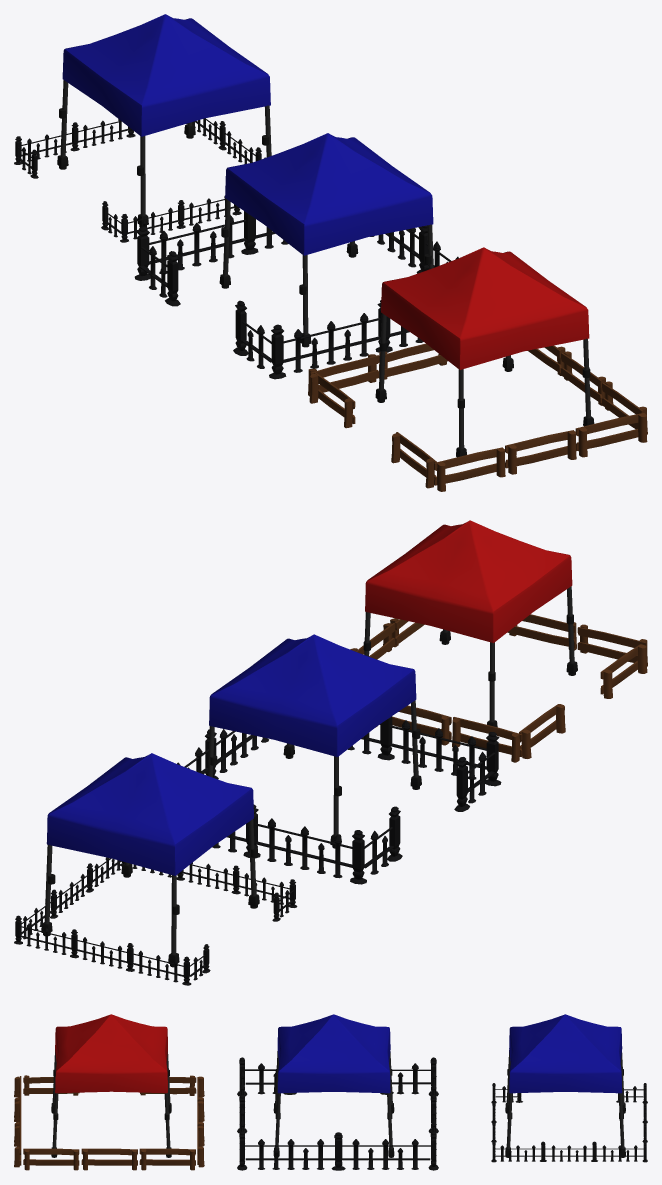
The model's file is workshop.fbx.
The picture shows the model from 3 angles, top to bottom: view 1: azimuth 30°, elevation 25°; view 2: azimuth 150°, elevation 25°; view 3: azimuth 270°, elevation 25°; orthographic projection. The views are drawn at different scales.
Visible parts, largest first — view 1: Box003, Box002, Box1276, Cylinder1429, Cylinder1434, Cylinder1439, Cylinder1438, Cylinder1454, Cylinder1444, Cylinder1436; view 2: Box002, Box1276, Box003, Cylinder1434, Cylinder1429, Cylinder1438, Cylinder1439, Cylinder1435, Cylinder1444, Cylinder1454, Cylinder1450, Cylinder1443; view 3: Box002, Box1276, Box003, Cylinder1435, Cylinder1436, Cylinder1445, Cylinder1451, Cylinder1439, Cylinder1434, Cylinder1429, Cylinder1446, Cylinder1438 (+8 smaller).
Boxes of the visible parts, x1=… form: Box003: x1=375, y1=247, x2=594, y2=457; Box002: x1=57, y1=14, x2=271, y2=227; Box1276: x1=219, y1=133, x2=433, y2=347; Cylinder1429: x1=269, y1=300, x2=392, y2=379; Cylinder1434: x1=134, y1=211, x2=258, y2=280; Cylinder1439: x1=139, y1=246, x2=180, y2=306; Cylinder1438: x1=233, y1=300, x2=271, y2=368; Cylinder1454: x1=120, y1=200, x2=185, y2=242; Cylinder1444: x1=14, y1=122, x2=79, y2=164; Cylinder1436: x1=370, y1=228, x2=418, y2=267; Box002: x1=41, y1=753, x2=259, y2=967; Box1276: x1=208, y1=634, x2=421, y2=848; Box003: x1=364, y1=520, x2=577, y2=727; Cylinder1434: x1=243, y1=804, x2=366, y2=884; Cylinder1429: x1=377, y1=716, x2=501, y2=786; Cylinder1438: x1=454, y1=751, x2=495, y2=811; Cylinder1439: x1=364, y1=806, x2=402, y2=874; Cylinder1435: x1=205, y1=729, x2=268, y2=779; Cylinder1444: x1=126, y1=943, x2=191, y2=985; Cylinder1454: x1=231, y1=865, x2=297, y2=907; Cylinder1450: x1=14, y1=915, x2=71, y2=954; Cylinder1443: x1=70, y1=929, x2=126, y2=968; Box002: x1=505, y1=1014, x2=625, y2=1157; Box1276: x1=273, y1=1014, x2=394, y2=1157; Box003: x1=51, y1=1014, x2=171, y2=1157; Cylinder1435: x1=245, y1=1132, x2=345, y2=1170; Cylinder1436: x1=342, y1=1139, x2=430, y2=1169; Cylinder1445: x1=545, y1=1141, x2=597, y2=1161; Cylinder1451: x1=495, y1=1141, x2=546, y2=1161; Cylinder1439: x1=380, y1=1063, x2=430, y2=1094; Cylinder1434: x1=428, y1=1057, x2=438, y2=1133; Cylinder1429: x1=237, y1=1057, x2=247, y2=1133; Cylinder1446: x1=596, y1=1145, x2=643, y2=1161; Cylinder1438: x1=245, y1=1063, x2=296, y2=1094.
Size of the model in its own units: 2597 by 1820 by 8710.
